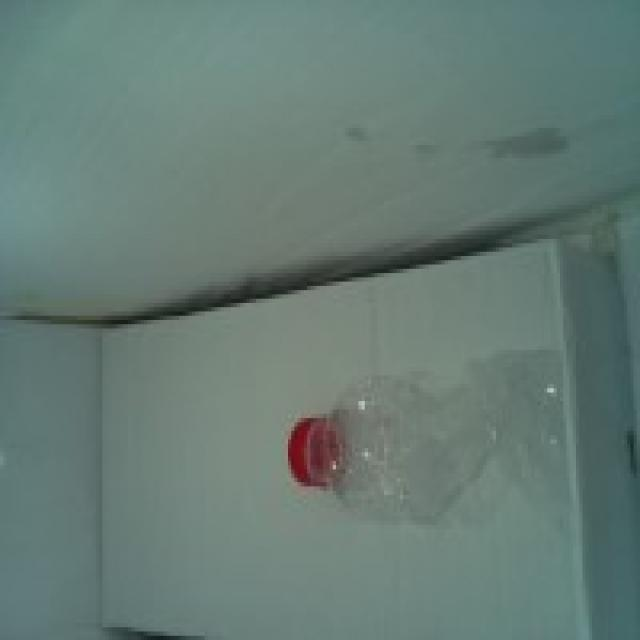plastic_bottle: (288, 351, 569, 529)
